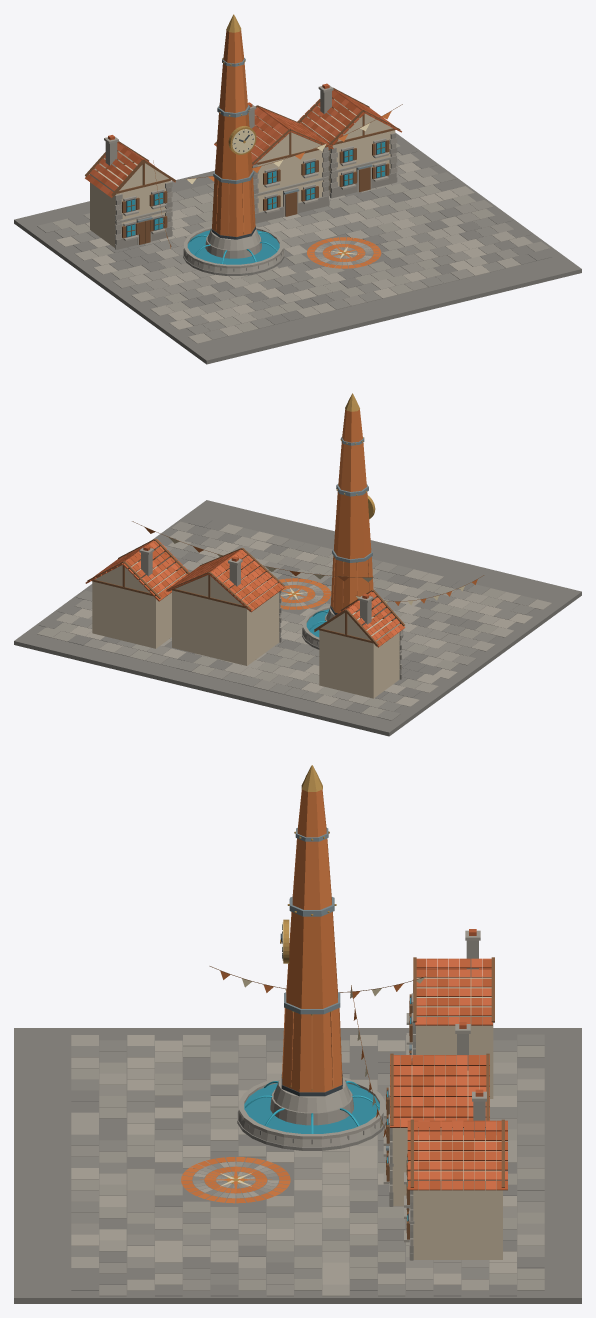
File: town-gate-plaza-shell.glb
3 views of the same model, one above another, from view 1: azimuth 30°, elevation 25°; view 2: azimuth 150°, elevation 25°; view 3: azimuth 270°, elevation 25° (orthographic). The views are drawn at different scales.
Visible parts, largest first — view 1: Plaza | Limestone 0, Plaza | Limestone 4, Plaza | Limestone 3, Plaza | Limestone 2, Plaza | Limestone 1, Plaza | Cream plaster, Plaza | Limestone 5, Plaza | Stained wood, Plaza | Terracotta 1, Plaza | Terracotta 0, Plaza | Fired roof 1, Plaza | Fired roof 2 (+9 smaller); view 2: Plaza | Limestone 0, Plaza | Cream plaster, Plaza | Limestone 3, Plaza | Limestone 1, Plaza | Limestone 2, Plaza | Limestone 4, Plaza | Limestone 5, Plaza | Terracotta 0, Plaza | Terracotta 1, Plaza | Stained wood, Plaza | Fired roof 1, Plaza | Fired roof 2 (+4 smaller); view 3: Plaza | Limestone 0, Plaza | Limestone 3, Plaza | Limestone 4, Plaza | Limestone 1, Plaza | Limestone 2, Plaza | Cream plaster, Plaza | Limestone 5, Plaza | Terracotta 1, Plaza | Terracotta 0, Plaza | Fired roof 3, Plaza | Fired roof 1, Plaza | Fired roof 0 (+6 smaller).
Part boxes in pixels (x1,y1,x2,y2): Plaza | Limestone 0: (14,132,581,364); Plaza | Limestone 4: (75,86,532,343); Plaza | Limestone 3: (53,90,494,332); Plaza | Limestone 2: (83,133,550,319); Plaza | Limestone 1: (37,159,505,339); Plaza | Cream plaster: (90,99,395,247); Plaza | Limestone 5: (56,162,489,329); Plaza | Stained wood: (85,87,402,246); Plaza | Terracotta 1: (163,30,381,268); Plaza | Terracotta 0: (170,111,391,267); Plaza | Fired roof 1: (88,83,381,197); Plaza | Fired roof 2: (90,98,396,190); Plaza | Limestone 0: (14,500,581,736); Plaza | Cream plaster: (92,546,399,698); Plaza | Limestone 3: (37,548,505,716); Plaza | Limestone 1: (71,528,536,720); Plaza | Limestone 2: (75,521,484,709); Plaza | Limestone 4: (56,524,551,705); Plaza | Limestone 5: (69,531,532,706); Plaza | Terracotta 0: (144,491,477,609); Plaza | Terracotta 1: (279,409,425,613); Plaza | Stained wood: (87,521,484,646); Plaza | Fired roof 1: (94,539,405,644); Plaza | Fired roof 2: (101,543,399,640); Plaza | Limestone 0: (14,1028,581,1303); Plaza | Limestone 3: (71,940,544,1290); Plaza | Limestone 4: (71,930,544,1296); Plaza | Limestone 1: (71,1034,544,1296); Plaza | Limestone 2: (71,991,544,1296); Plaza | Cream plaster: (392,976,502,1259); Plaza | Limestone 5: (71,1035,516,1284); Plaza | Terracotta 1: (181,789,371,1203); Plaza | Terracotta 0: (181,912,386,1203); Plaza | Fired roof 3: (401,958,507,1190); Plaza | Fired roof 1: (390,929,507,1190); Plaza | Fired roof 0: (401,958,507,1190).
Bounding box in the file's own units: 36 × 22.42 × 32.
